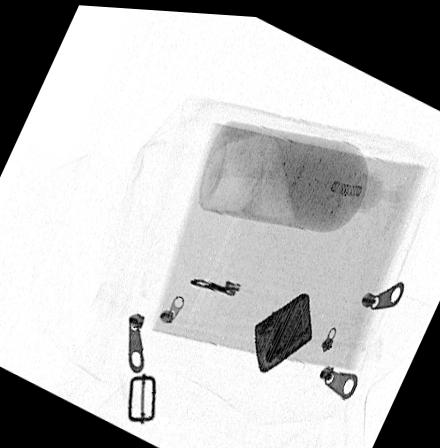Lighter: (254, 287, 313, 369)
